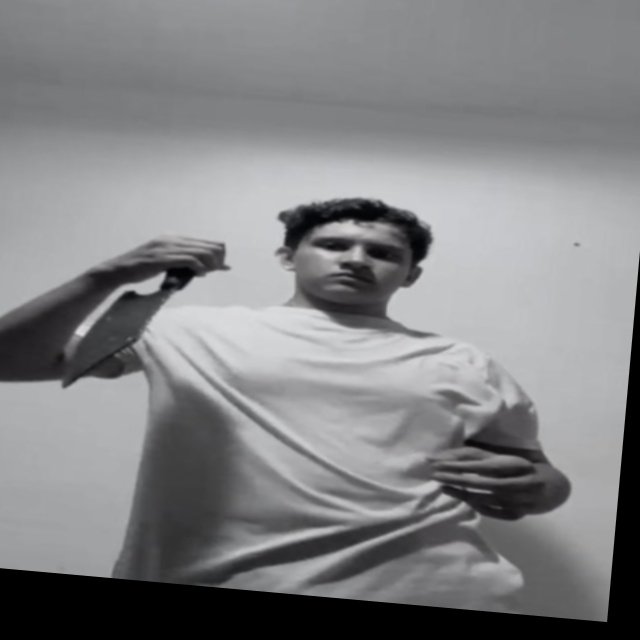Sharp-Object: (61, 285, 173, 389)
